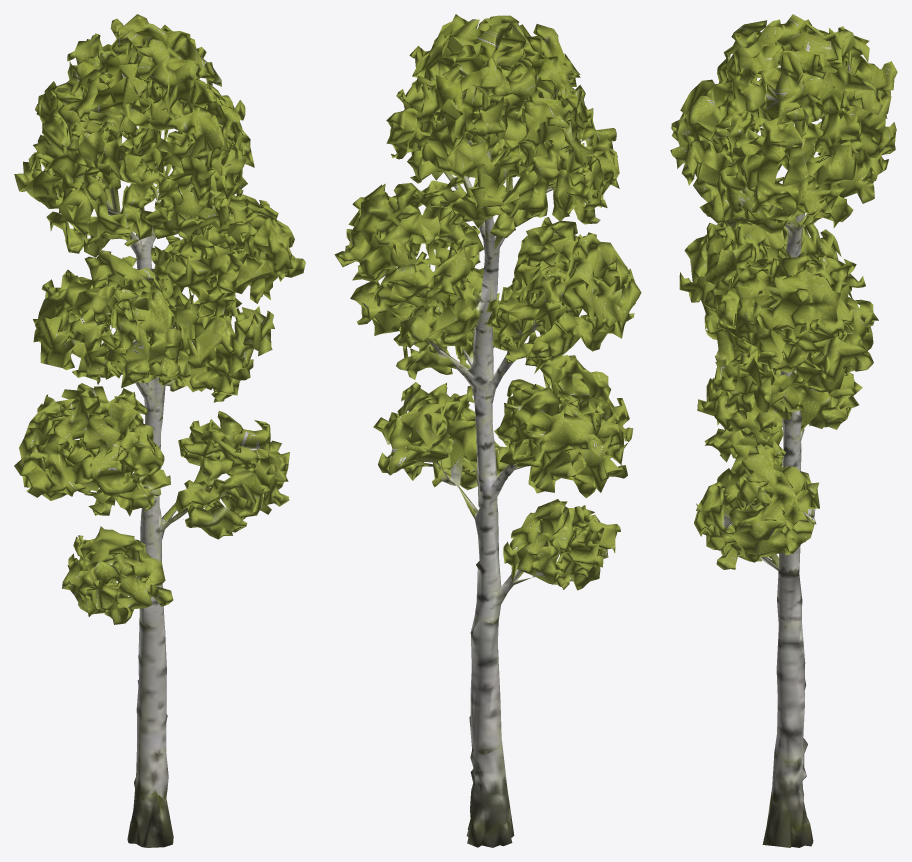
The model's file is abedul_alto.glb.
3 views of the same model, side by side, from view 1: azimuth 30°, elevation 25°; view 2: azimuth 150°, elevation 25°; view 3: azimuth 270°, elevation 25° (orthographic).
Visible parts, largest first — view 1: alto; view 2: alto; view 3: alto.
Boxes of the visible parts, x1,y1,x2,y2 form: alto: (14, 14, 305, 847); alto: (334, 14, 641, 847); alto: (670, 14, 897, 847).
Size of the model in its own units: 3.17 by 8.94 by 2.26.
Materials: 1 (1 with a texture image).
